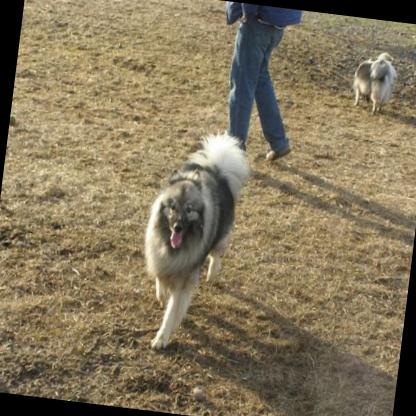keeshond: (129, 124, 252, 359)
